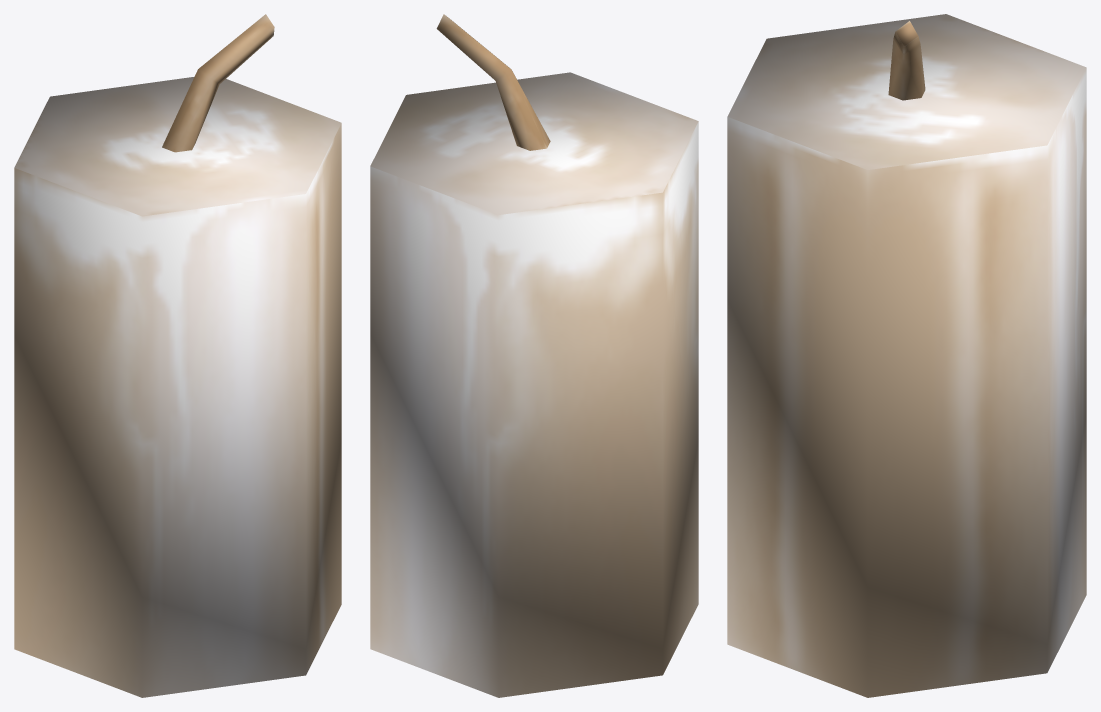
The model's file is ShaShouJia_01_lazhu_01.FBX.
3 views of the same model, side by side, from view 1: azimuth 30°, elevation 25°; view 2: azimuth 150°, elevation 25°; view 3: azimuth 270°, elevation 25° (orthographic). The views are drawn at different scales.
Parts seen in each view (by area): view 1: ShaShouJia_01_lazhu_01; view 2: ShaShouJia_01_lazhu_01; view 3: ShaShouJia_01_lazhu_01.
Part boxes in pixels (x1,y1,x2,y2): ShaShouJia_01_lazhu_01: [14, 14, 341, 697]; ShaShouJia_01_lazhu_01: [370, 14, 698, 697]; ShaShouJia_01_lazhu_01: [727, 14, 1086, 697].
Size of the model in its own units: 41.95 by 81.05 by 40.79.
